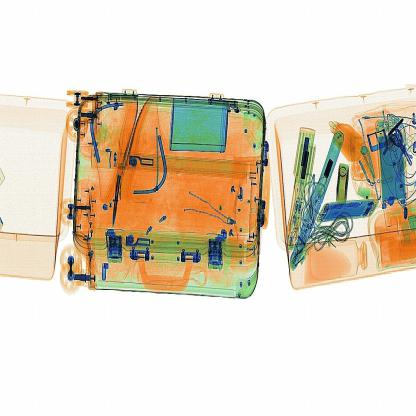gun: (110, 149, 131, 233)
